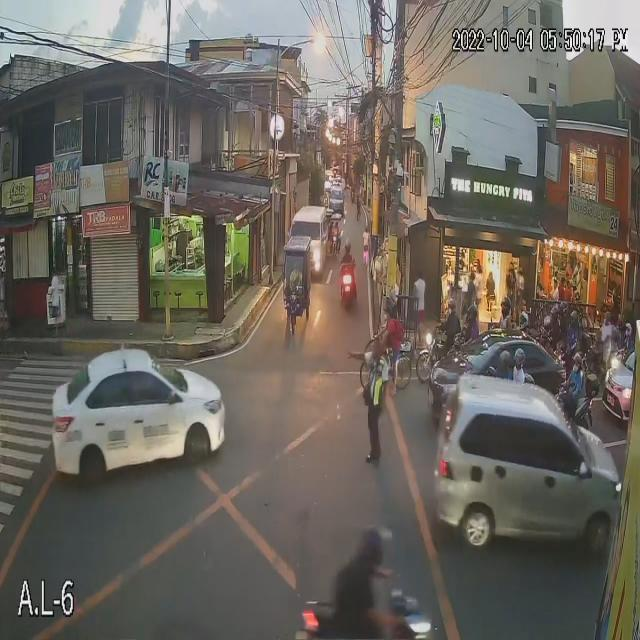helmet: (356, 521, 390, 568), (494, 297, 512, 316), (495, 352, 509, 371), (515, 313, 528, 332), (547, 307, 562, 323), (620, 321, 632, 341), (571, 353, 581, 375), (513, 350, 525, 367), (463, 307, 476, 321), (446, 296, 458, 311), (570, 311, 579, 331), (559, 300, 568, 318), (343, 240, 352, 254)
motorcycle: (294, 591, 433, 640), (556, 373, 607, 426), (416, 327, 449, 384), (336, 265, 360, 315)
rider: (326, 516, 397, 628), (597, 305, 616, 352), (442, 293, 460, 342), (510, 345, 528, 392), (571, 351, 589, 397), (494, 295, 516, 331), (621, 317, 638, 359), (492, 350, 510, 385), (555, 298, 570, 333), (464, 305, 480, 336), (570, 305, 582, 344), (515, 306, 532, 332), (342, 237, 352, 280), (548, 304, 560, 339)
